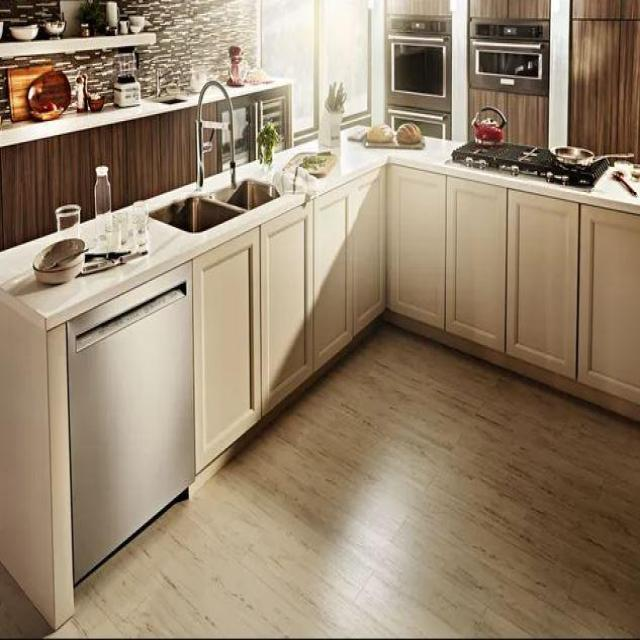dishwasher: (66, 253, 197, 601)
